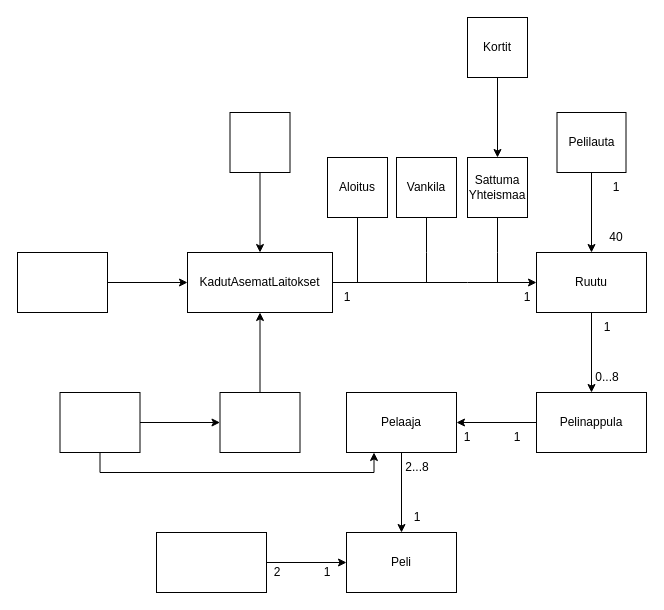
Some shapes in this 664 by 610 pixel diagram are drawn without their labels. Here are the shapes that lost their labels. From the top down, the centre of each, then its label:
At (259,142): "Laitos".
At (62,282): "Asema".
At (99,422): "Omistaja".
At (259,422): "Katu".
At (211,562): "Noppa".
